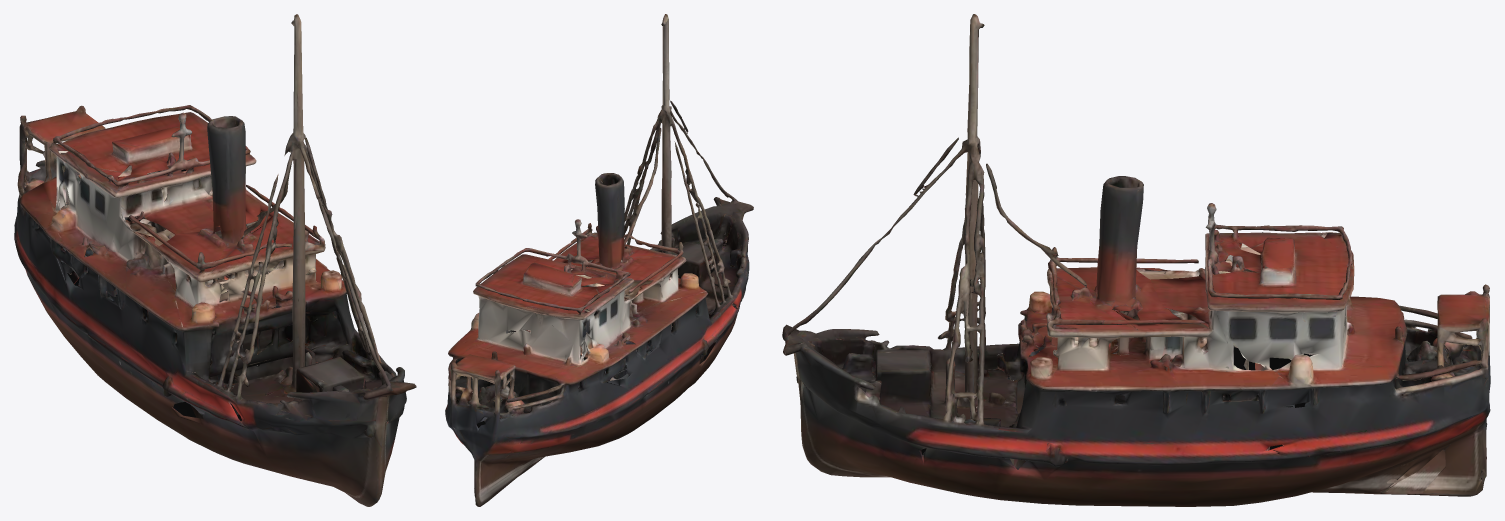
File: steamship.glb
3 renders of one model, left to right at view 1: azimuth 30°, elevation 25°; view 2: azimuth 150°, elevation 25°; view 3: azimuth 270°, elevation 25°, orthographic. The views are drawn at different scales.
Visible parts, largest first — view 1: Mesh1.0; view 2: Mesh1.0; view 3: Mesh1.0.
Part boxes in pixels (x1=…): Mesh1.0: x1=14, y1=14, x2=416, y2=506; Mesh1.0: x1=445, y1=14, x2=753, y2=506; Mesh1.0: x1=782, y1=14, x2=1490, y2=506.
Bounding box in the file's own units: 0.6487 × 1.5 × 2.
1 material, 1 textured.
